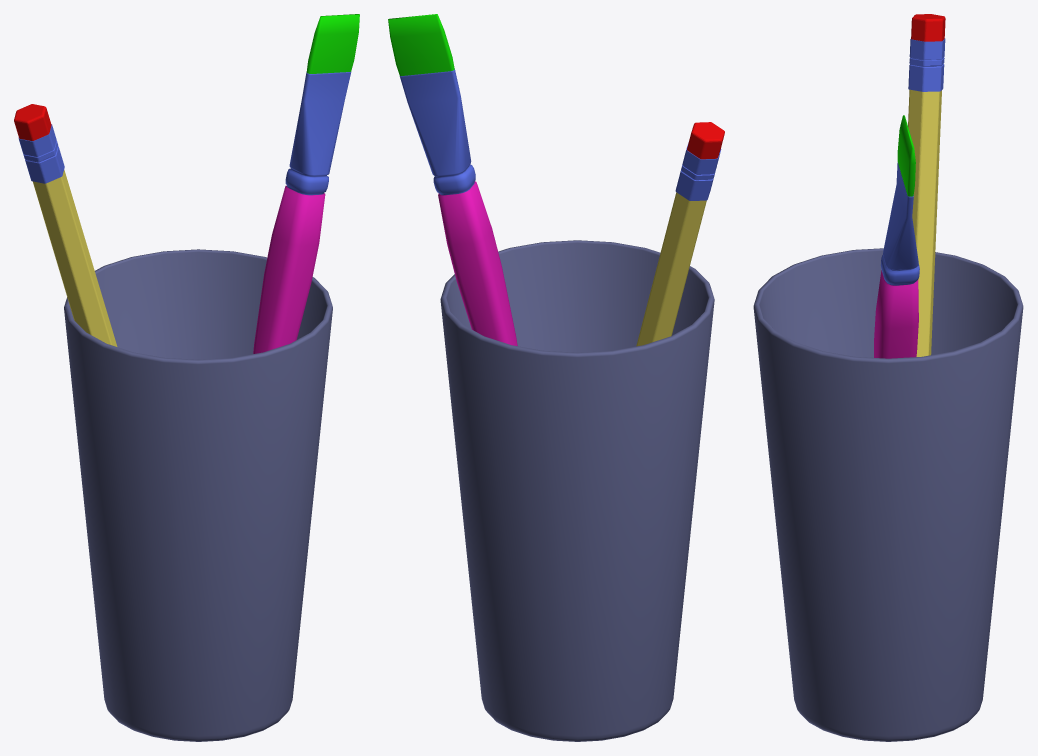
File: paint.fbx
The picture shows the model from 3 angles, left to right: view 1: azimuth 30°, elevation 25°; view 2: azimuth 150°, elevation 25°; view 3: azimuth 270°, elevation 25°; orthographic projection.
Visible parts, largest first — view 1: Cylinder; view 2: Cylinder; view 3: Cylinder.
Part boxes in pixels (<box>): Cylinder: <box>14,14,359,741</box>; Cylinder: <box>388,14,724,741</box>; Cylinder: <box>753,14,1023,741</box>.
Size of the model in its own units: 224 by 414 by 155.
